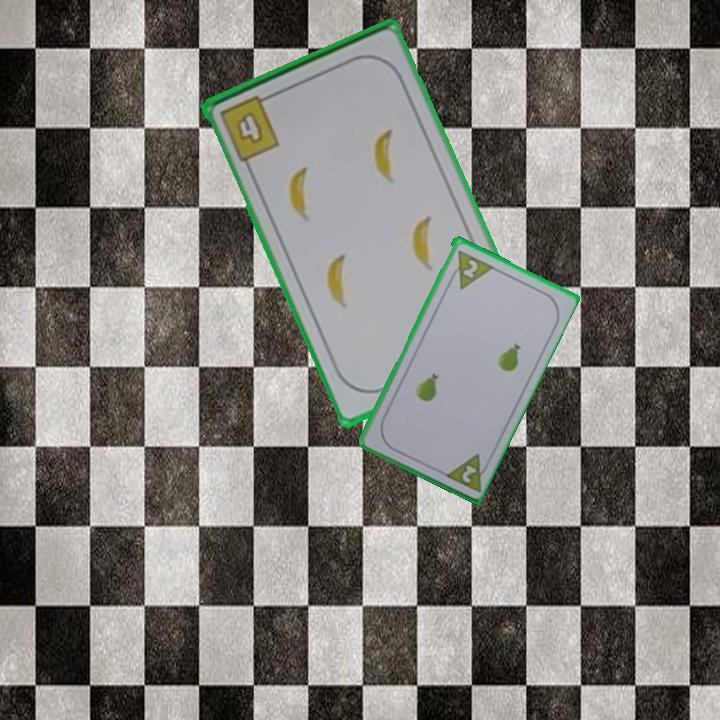2p: (444, 246, 495, 292), (440, 450, 493, 494)
4b: (215, 91, 283, 164)
